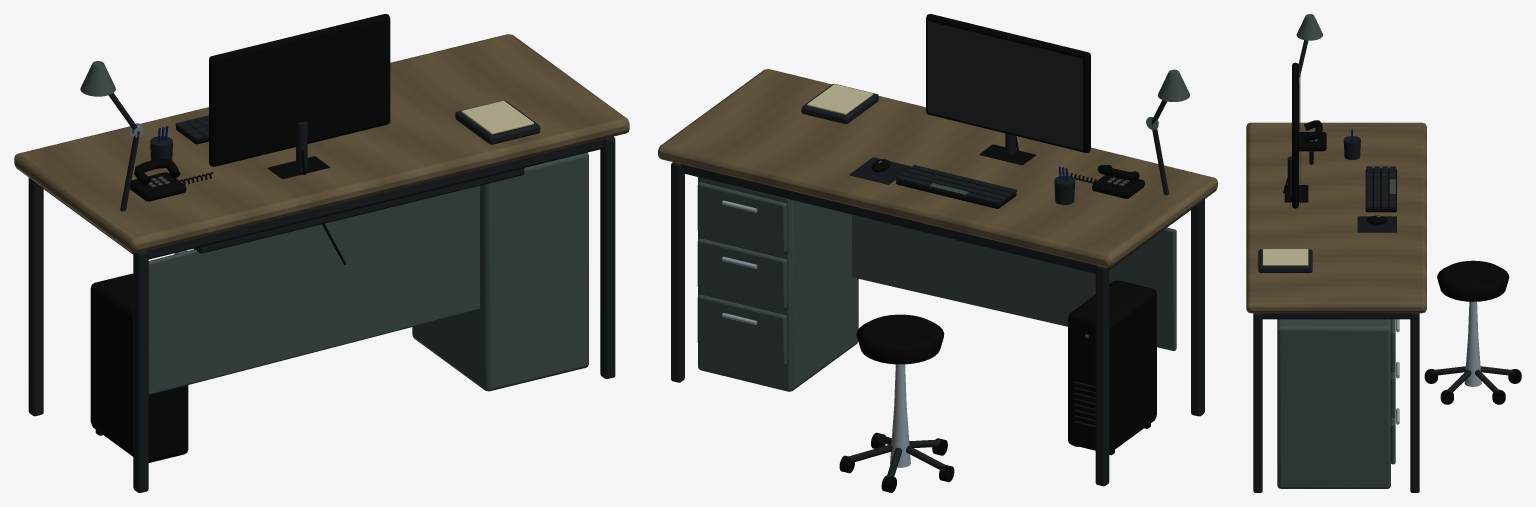
Rendered from JobComputerDesk.gltf.
3 views of the same model, side by side, from view 1: azimuth 30°, elevation 25°; view 2: azimuth 150°, elevation 25°; view 3: azimuth 270°, elevation 25° (orthographic). The views are drawn at different scales.
Parts seen in each view (by area): view 1: JobComputerDesk__Body, JobComputerDesk__Top, JobComputerDesk__Clutter, JobComputerDesk__Cabinet, JobComputerDesk; view 2: JobComputerDesk__Top, JobComputerDesk__Cabinet, JobComputerDesk__Clutter, JobComputerDesk__Body, JobComputerDesk__Screen, JobComputerDesk, JobComputerDesk__Chair; view 3: JobComputerDesk__Top, JobComputerDesk__Cabinet, JobComputerDesk__Clutter, JobComputerDesk__Chair, JobComputerDesk, JobComputerDesk__Body.
Part boxes in pixels (left/top/right/bottom): JobComputerDesk__Body: left=39, top=138, right=604, bottom=394; JobComputerDesk__Top: left=14, top=34, right=629, bottom=252; JobComputerDesk__Clutter: left=80, top=14, right=540, bottom=462; JobComputerDesk__Cabinet: left=412, top=152, right=588, bottom=391; JobComputerDesk: left=28, top=136, right=615, bottom=492; JobComputerDesk__Top: left=658, top=69, right=1217, bottom=267; JobComputerDesk__Cabinet: left=697, top=177, right=858, bottom=391; JobComputerDesk__Clutter: left=801, top=14, right=1189, bottom=455; JobComputerDesk__Body: left=681, top=164, right=1194, bottom=350; JobComputerDesk__Screen: left=927, top=21, right=1082, bottom=150; JobComputerDesk: left=671, top=162, right=1204, bottom=486; JobComputerDesk__Chair: left=839, top=314, right=954, bottom=492; JobComputerDesk__Top: left=1246, top=122, right=1426, bottom=313; JobComputerDesk__Cabinet: left=1277, top=319, right=1399, bottom=488; JobComputerDesk__Clutter: left=1258, top=14, right=1396, bottom=272; JobComputerDesk__Chair: left=1424, top=260, right=1521, bottom=404; JobComputerDesk: left=1253, top=313, right=1419, bottom=492; JobComputerDesk__Body: left=1262, top=313, right=1410, bottom=319.
Bounding box in the file's own units: 1.56 × 1.19 × 0.9821.
Materials: 2 (1 with a texture image).
